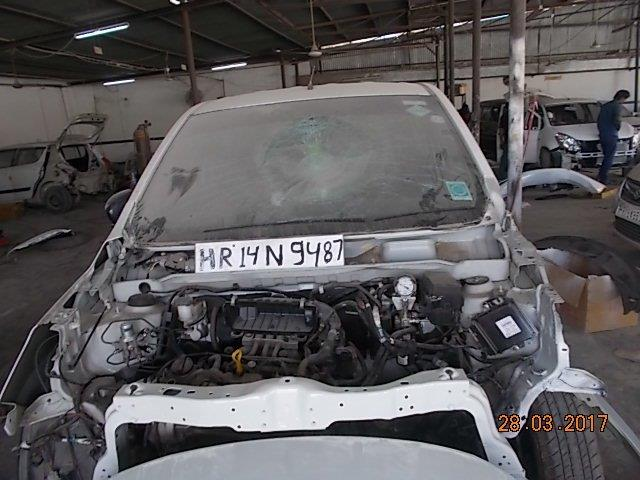Large_tear_or_damage: (26, 240, 589, 435)
